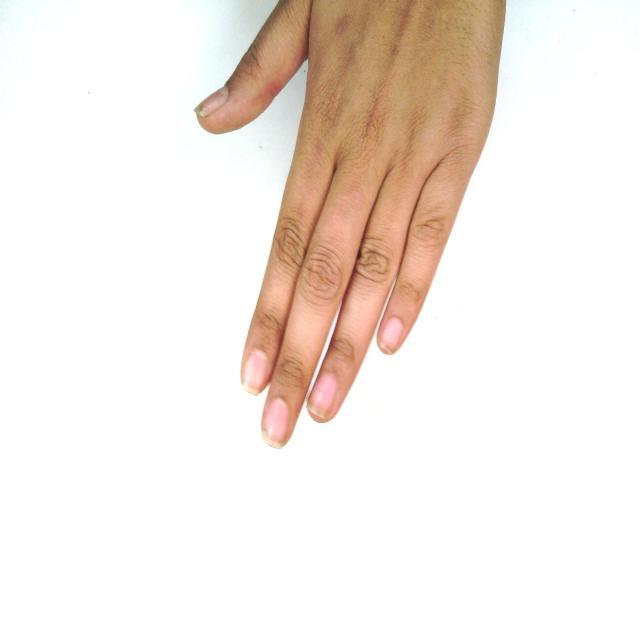Fingernail: (309, 373, 337, 420), (264, 399, 290, 447), (244, 352, 270, 393), (380, 318, 403, 351), (196, 90, 225, 116)
